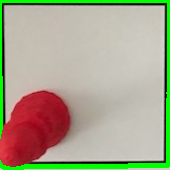Red Bishop: (1, 85, 73, 168)
